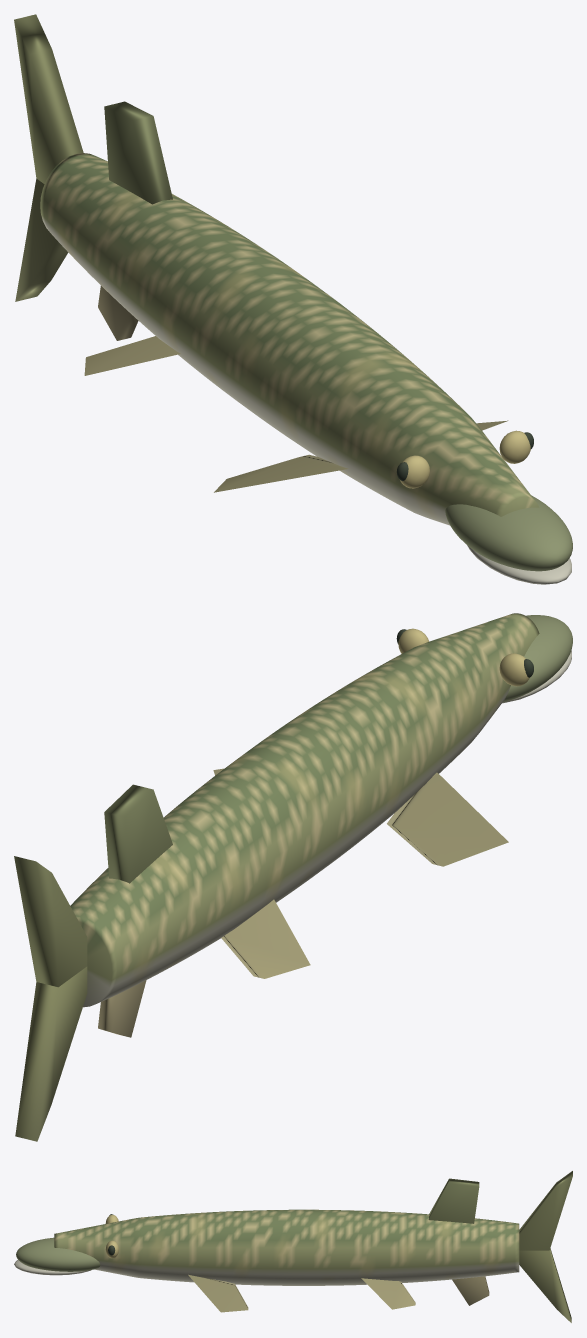
The model's file is pike.glb.
3 renders of one model, top to bottom at view 1: azimuth 30°, elevation 25°; view 2: azimuth 150°, elevation 25°; view 3: azimuth 270°, elevation 25°, orthographic. The views are drawn at different scales.
Visible parts, largest first — view 1: pike; view 2: pike; view 3: pike.
Boxes of the visible parts, box(x1,y1,x2,y2) form: pike: box(14, 14, 572, 584); pike: box(14, 613, 572, 1141); pike: box(14, 1171, 572, 1322).
Size of the model in its own units: 1.12 by 1.02 by 3.5.
